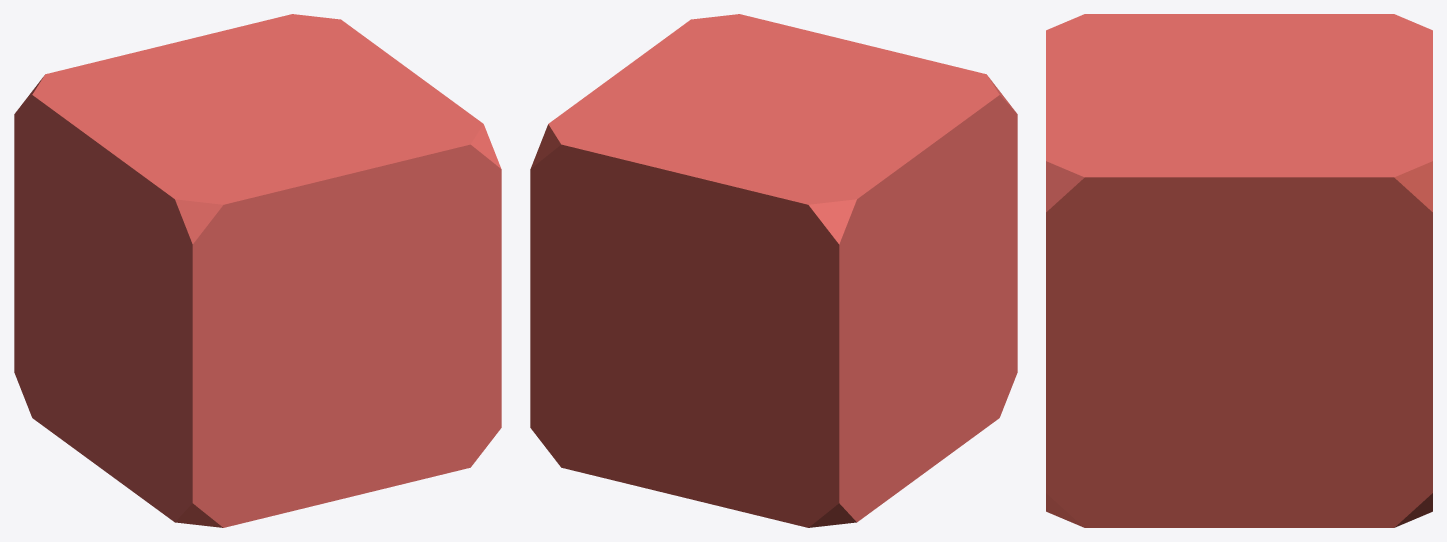
The model's file is base10_unit.glb.
3 renders of one model, left to right at view 1: azimuth 30°, elevation 25°; view 2: azimuth 150°, elevation 25°; view 3: azimuth 270°, elevation 25°, orthographic. The views are drawn at different scales.
Parts seen in each view (by area): view 1: cube; view 2: cube; view 3: cube.
Part boxes in pixels (<box>): cube: <box>14,14,501,527</box>; cube: <box>530,14,1017,527</box>; cube: <box>1046,14,1432,527</box>.
Size of the model in its own units: 0.01 by 0.01 by 0.01.
